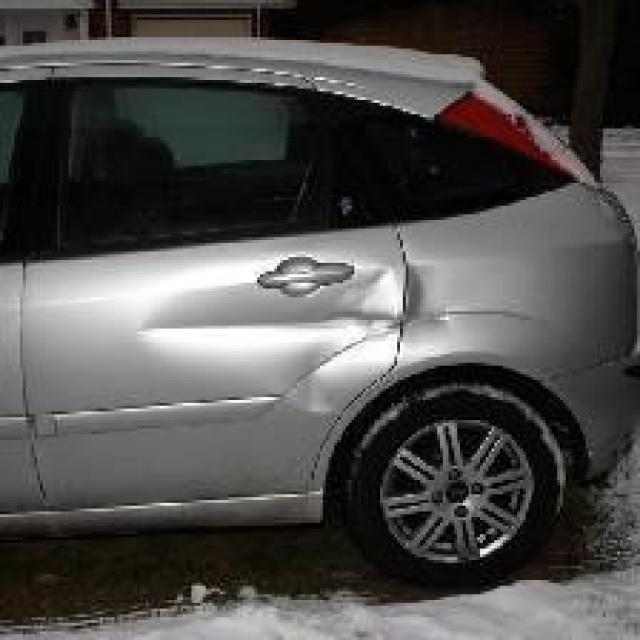damaged: (140, 266, 537, 418)
